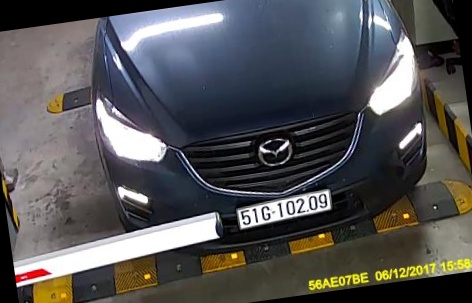plate: (236, 189, 338, 240)
